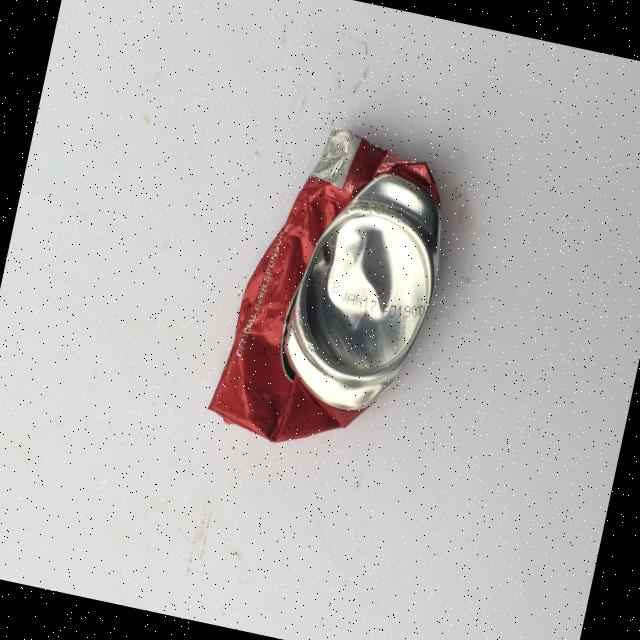metal: (268, 155, 456, 424)
